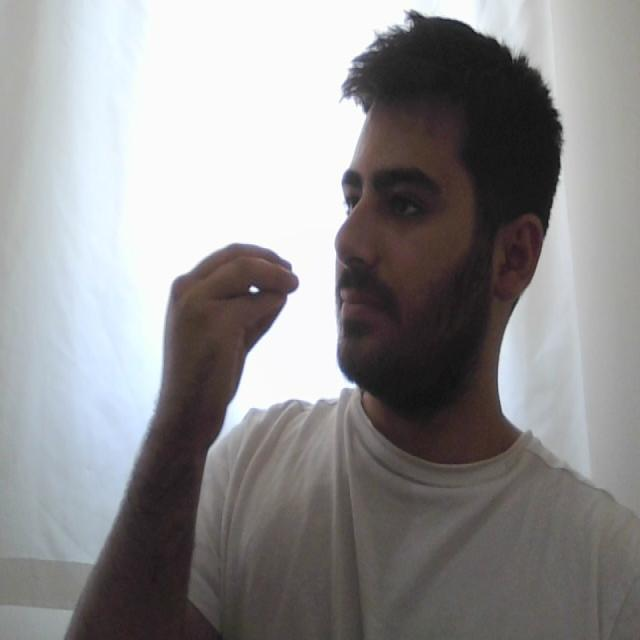Yemek: (165, 239, 384, 334)
